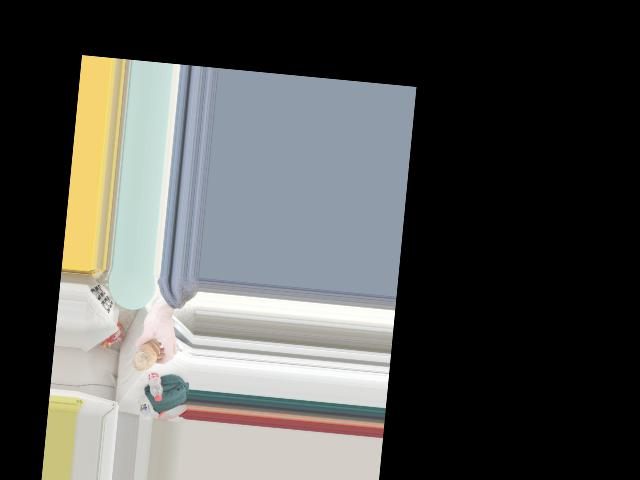sweet_potato: (132, 336, 163, 372)
